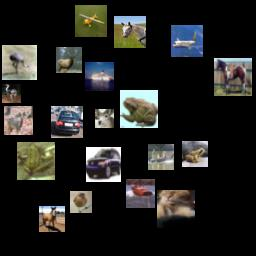airplane: (171, 25, 203, 57), (75, 5, 107, 37)
automobile: (86, 147, 121, 182), (51, 106, 83, 138)
bird: (2, 45, 37, 80), (70, 191, 92, 213), (2, 84, 21, 103)
cat: (157, 190, 195, 228)
deer: (4, 106, 33, 135), (56, 47, 82, 73), (95, 109, 114, 128)
frog: (120, 90, 158, 128), (17, 142, 55, 180), (182, 141, 208, 167)
ship: (85, 62, 114, 91), (126, 179, 155, 208), (148, 144, 174, 170)
